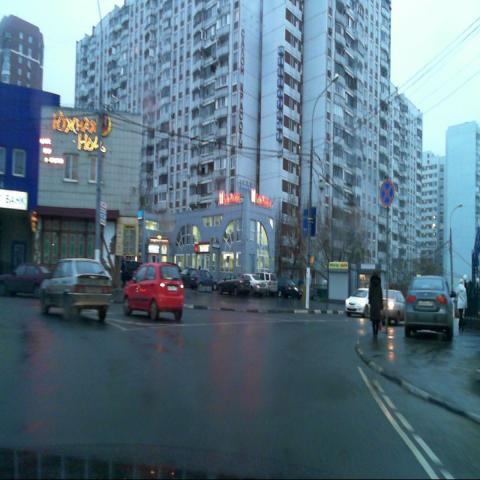3_27: (379, 180, 395, 205)
